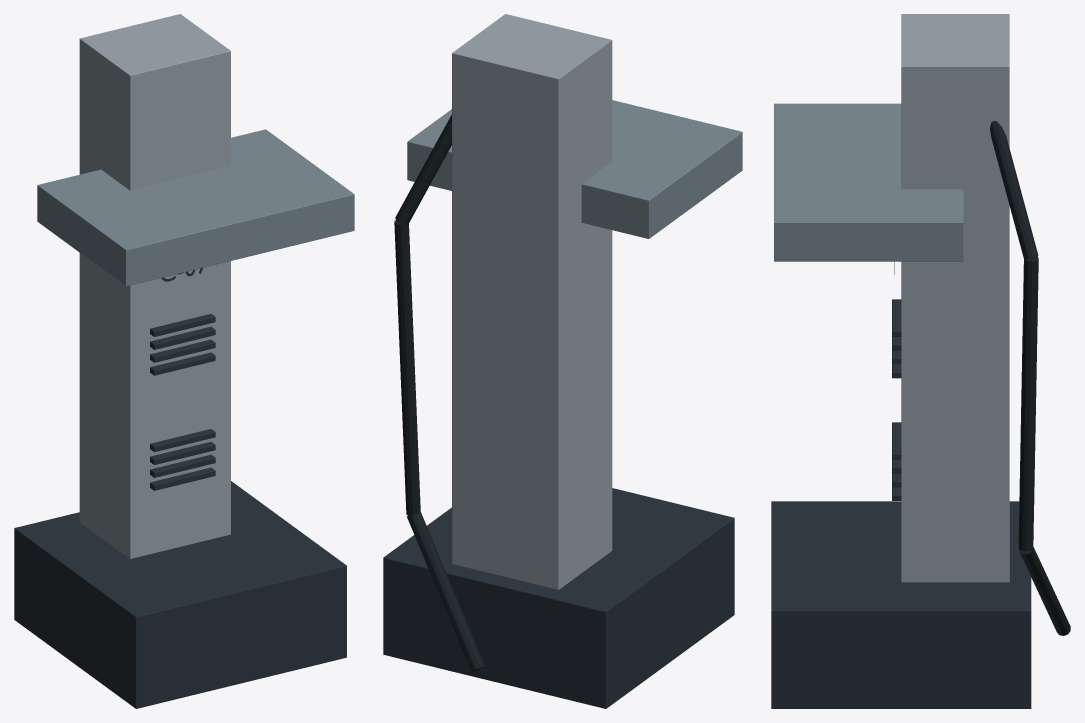
The model's file is SM_Lab_ReactorTerminal.fbx.
The picture shows the model from 3 angles, left to right: view 1: azimuth 30°, elevation 25°; view 2: azimuth 150°, elevation 25°; view 3: azimuth 270°, elevation 25°; orthographic projection. The views are drawn at different scales.
Visible parts, largest first — view 1: SM_Lab_ReactorTerminal; view 2: SM_Lab_ReactorTerminal; view 3: SM_Lab_ReactorTerminal.
Boxes of the visible parts, x1,y1,x2,y2 form: SM_Lab_ReactorTerminal: (14, 14, 354, 708); SM_Lab_ReactorTerminal: (383, 14, 742, 708); SM_Lab_ReactorTerminal: (771, 14, 1070, 708).
Bounding box in the file's own units: 52 × 55.28 × 125.
